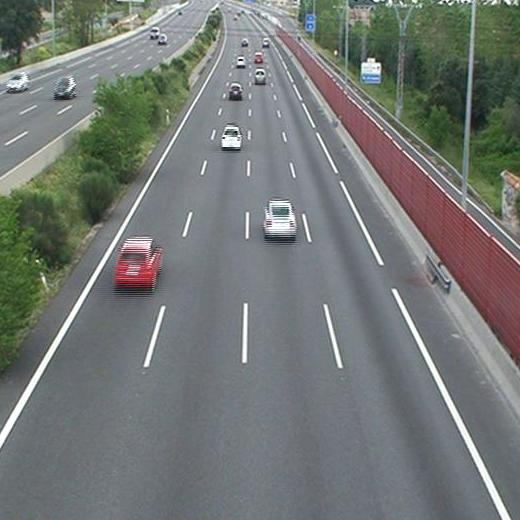car: (115, 239, 161, 287), (264, 200, 296, 236), (221, 127, 242, 149), (229, 84, 244, 98), (254, 70, 266, 83), (254, 52, 264, 63), (235, 57, 246, 67), (261, 38, 269, 47), (241, 39, 249, 46)
